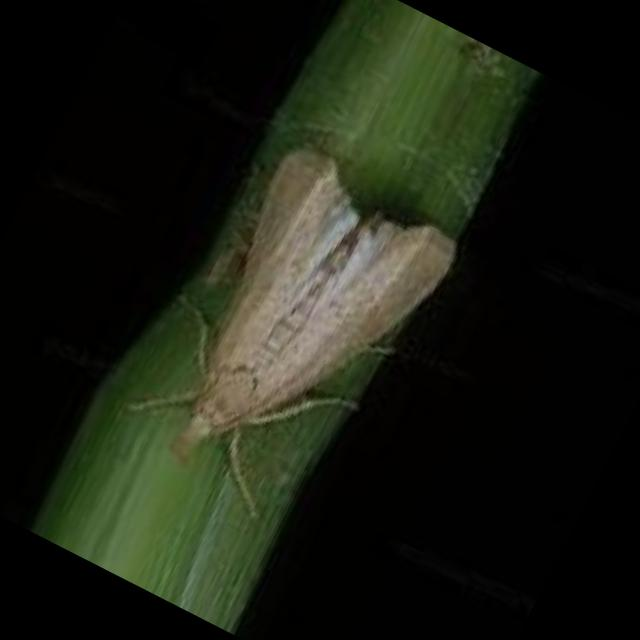stem-borer: (126, 129, 443, 518)
